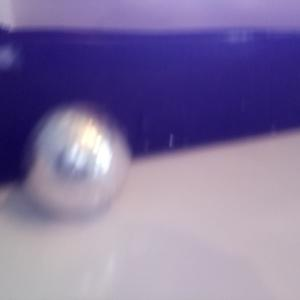zone: (1, 31, 300, 185)
